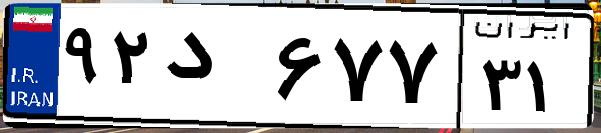1: (525, 38, 570, 115)
2: (110, 28, 158, 98)
3: (475, 38, 525, 113)
6: (270, 28, 330, 110)
7: (385, 28, 445, 110), (330, 28, 385, 110)
9: (57, 26, 110, 100)
د: (158, 20, 270, 120)
